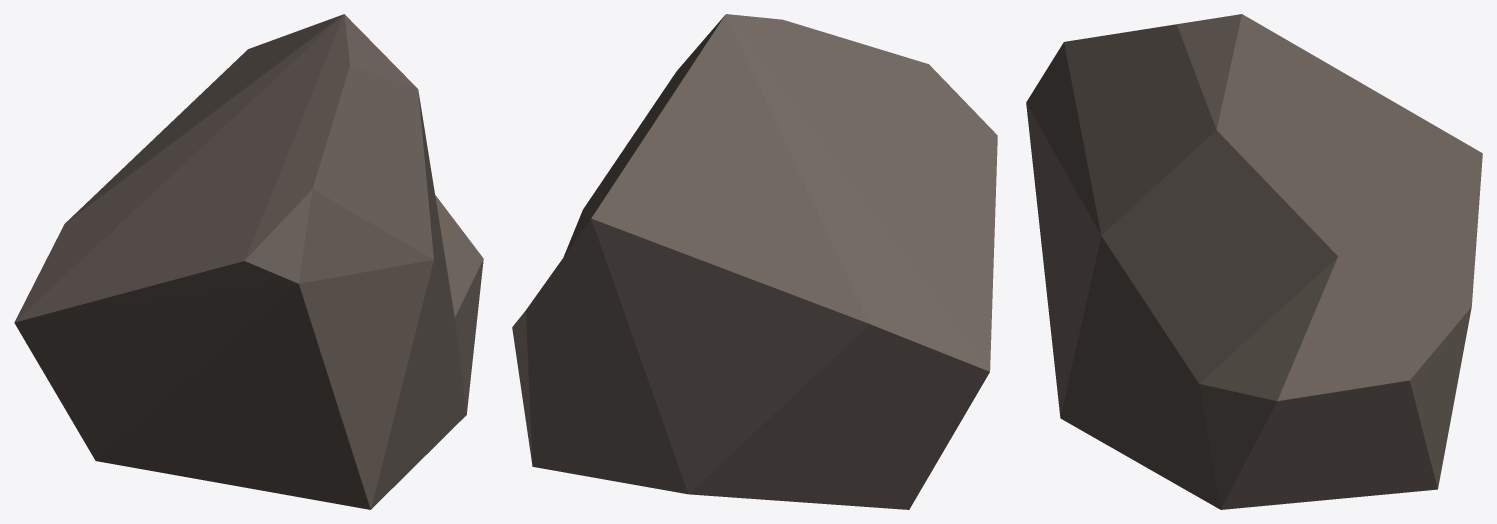
Rendered from Rock.015.fbx.
The picture shows the model from 3 angles, left to right: view 1: azimuth 30°, elevation 25°; view 2: azimuth 150°, elevation 25°; view 3: azimuth 270°, elevation 25°; orthographic projection. The views are drawn at different scales.
Parts seen in each view (by area): view 1: Rock.015; view 2: Rock.015; view 3: Rock.015.
Part boxes in pixels (left/top/right/bottom): Rock.015: left=14, top=14, right=483, bottom=509; Rock.015: left=512, top=14, right=997, bottom=509; Rock.015: left=1026, top=14, right=1482, bottom=509.
Size of the model in its own units: 4.51 by 4 by 3.77.
